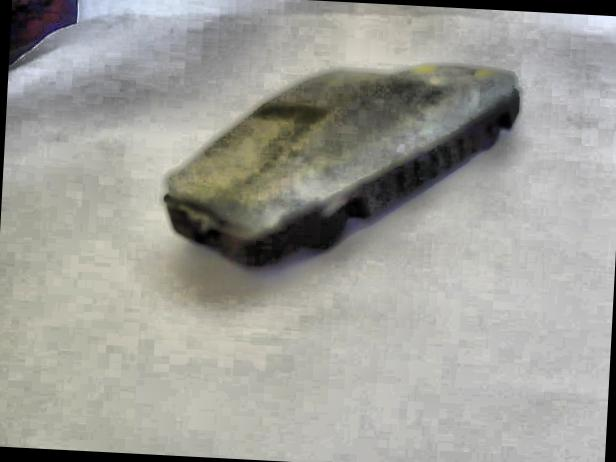normal_car: (146, 41, 529, 292)
